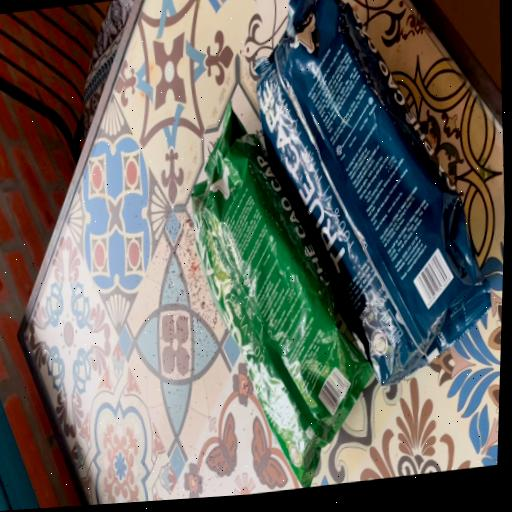cafe_hat: (255, 0, 490, 384)
cafe_xay: (191, 104, 373, 488)
